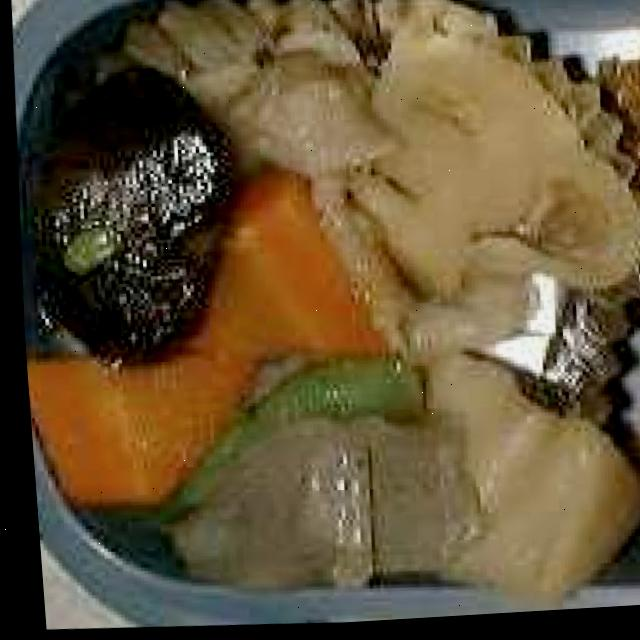鸡肉料理 含炸鸡: (19, 0, 640, 620)
